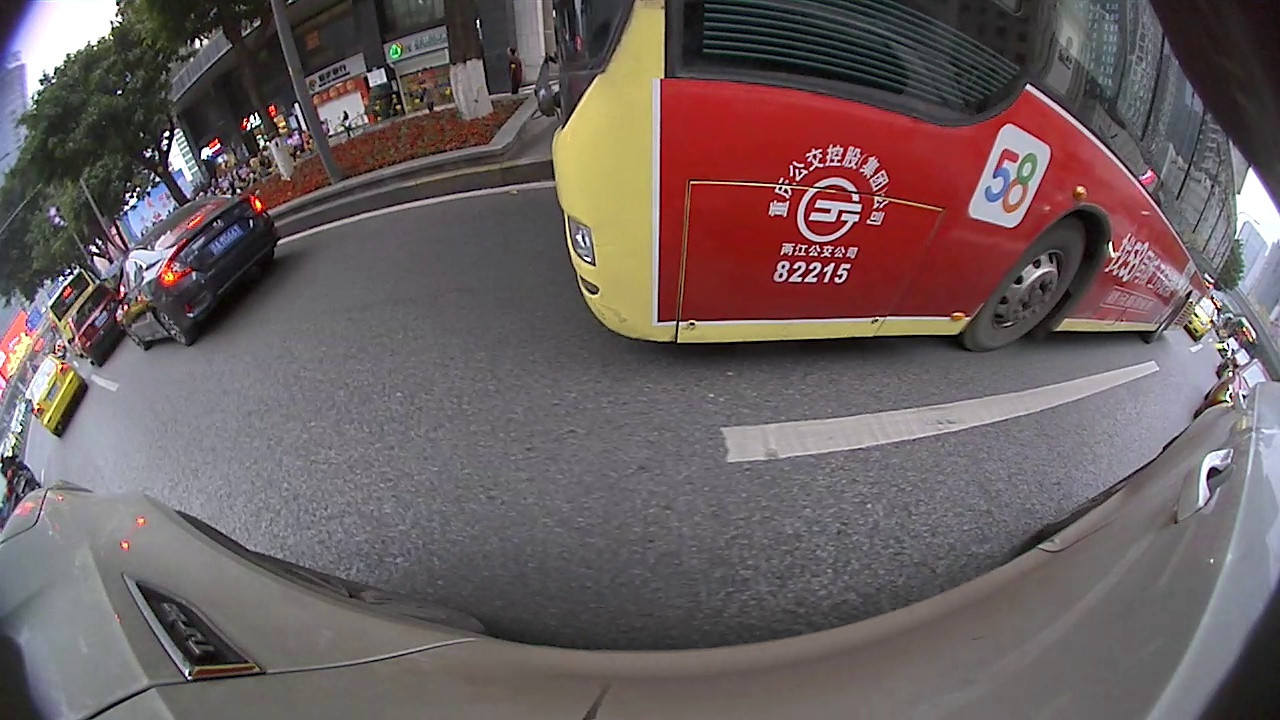car: (564, 6, 1148, 415), (315, 69, 528, 169), (58, 226, 159, 326), (1201, 417, 1279, 519), (1131, 268, 1204, 376)
front: (1044, 358, 1121, 416), (324, 138, 350, 166)
rear: (754, 289, 903, 403), (430, 111, 461, 147)
